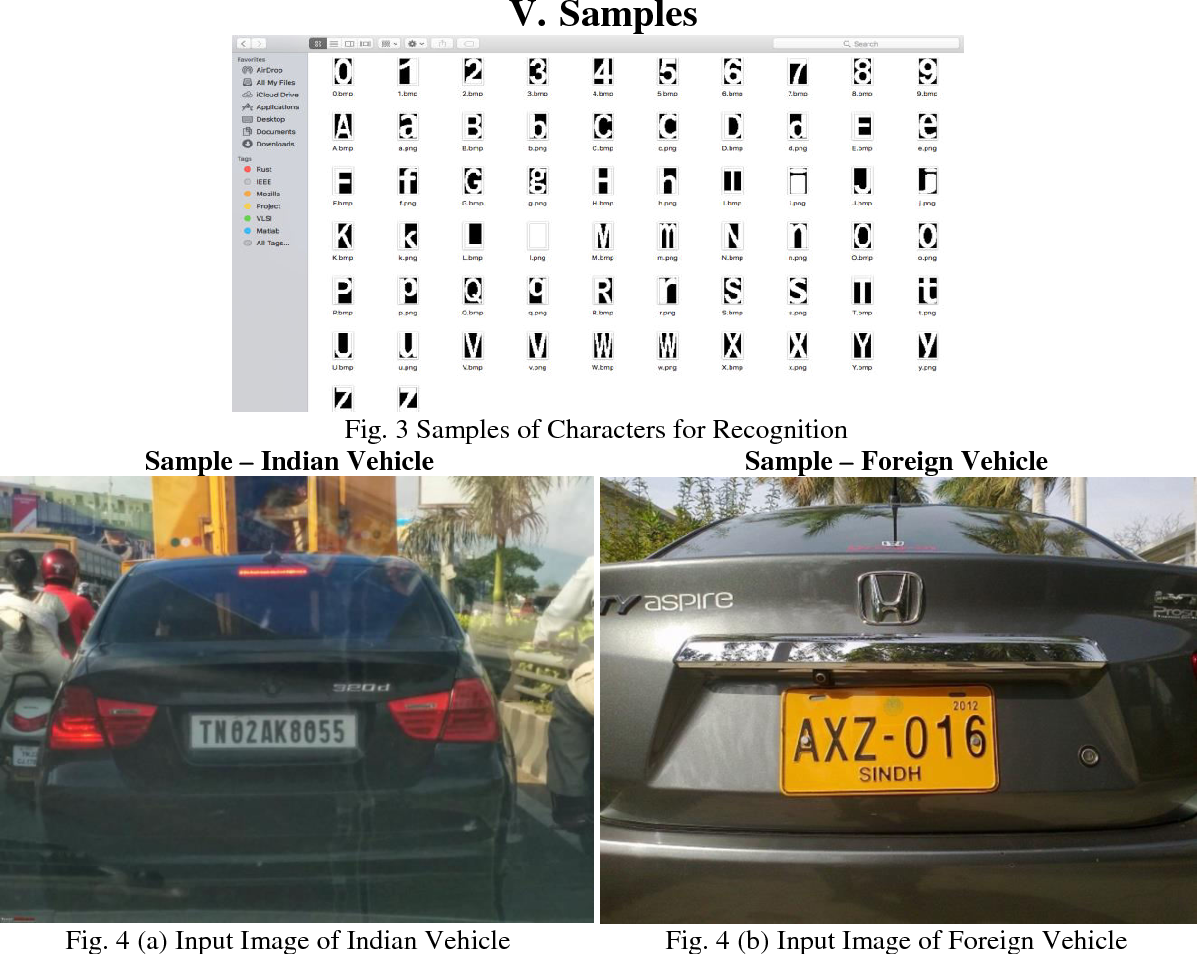number_plate: (780, 685, 1004, 796), (183, 708, 362, 755)
